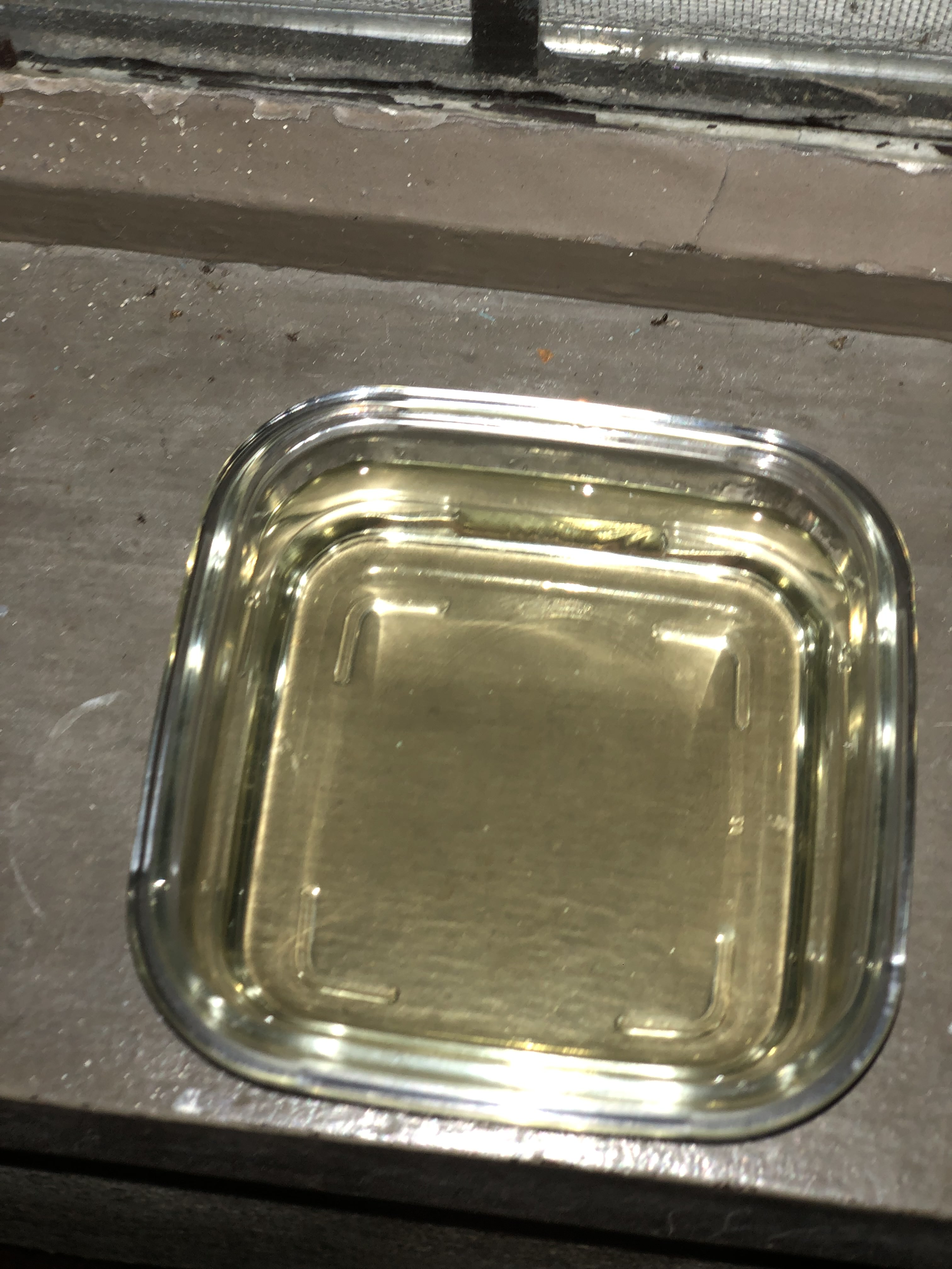reusable: (186, 463, 850, 1067)
